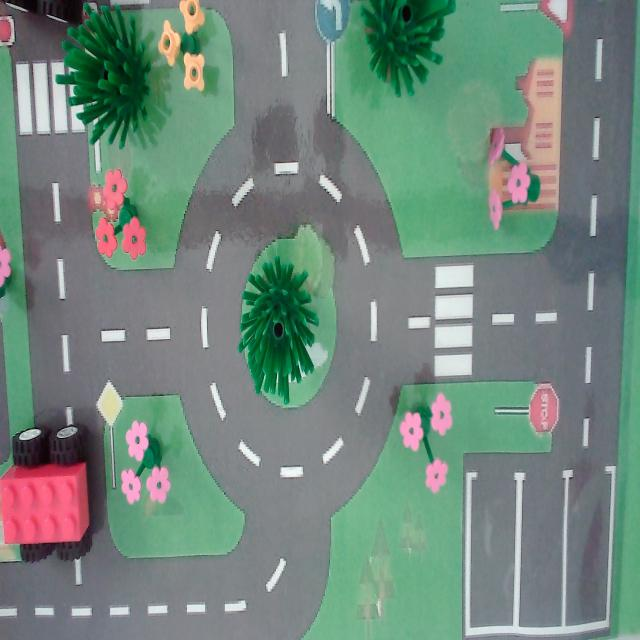Car: (0, 412, 98, 579)
Flower: (475, 119, 544, 238), (86, 160, 162, 265), (394, 380, 464, 491), (116, 406, 181, 511), (155, 0, 218, 107)
Tree: (55, 0, 161, 159), (236, 258, 326, 411), (356, 0, 470, 107)
